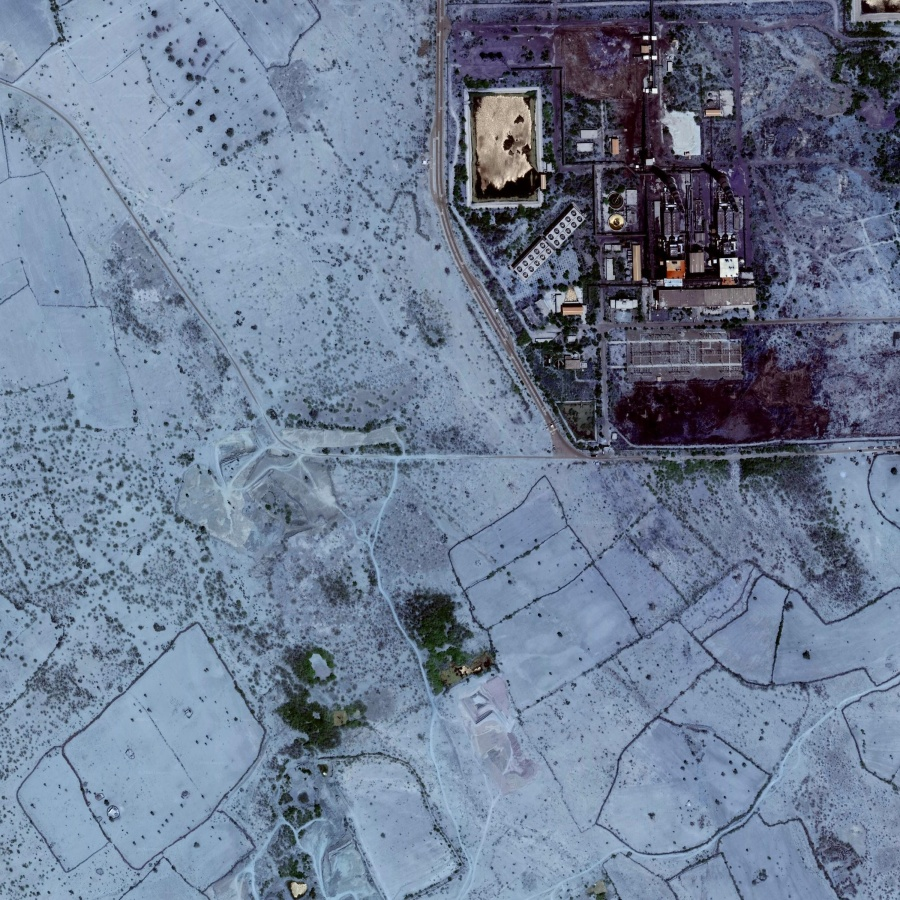PowerPlant: (452, 4, 822, 442)
